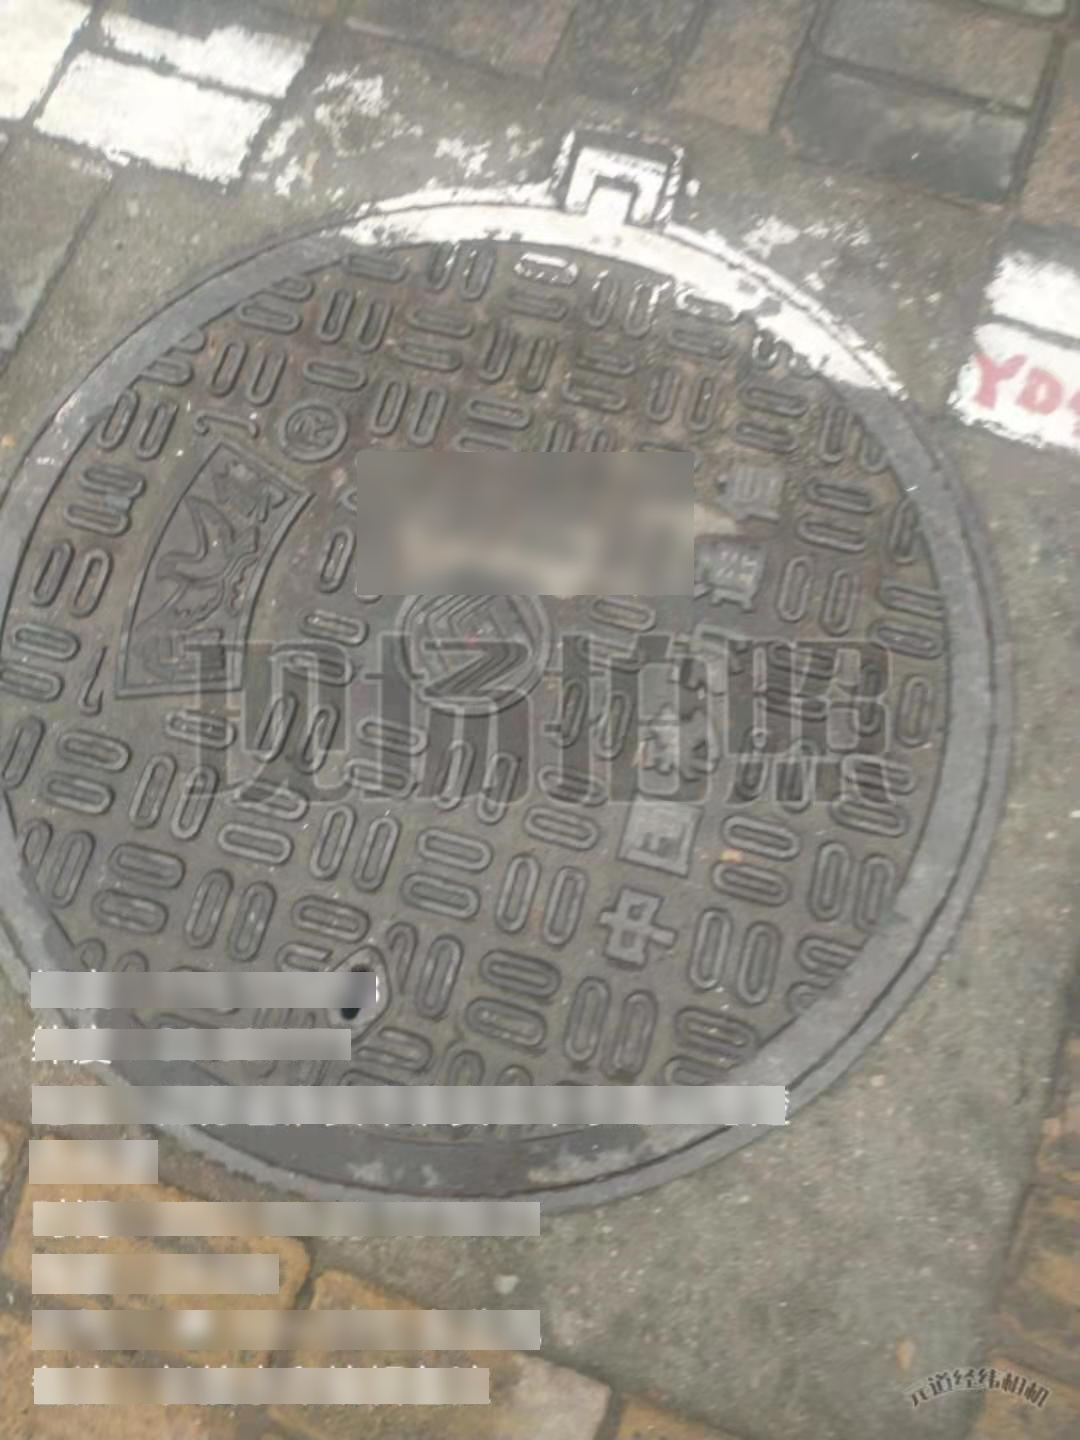good: (2, 120, 1023, 1220)
